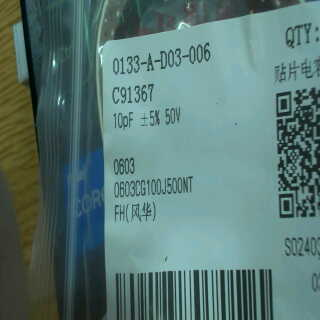10pF: (109, 106, 136, 135)
